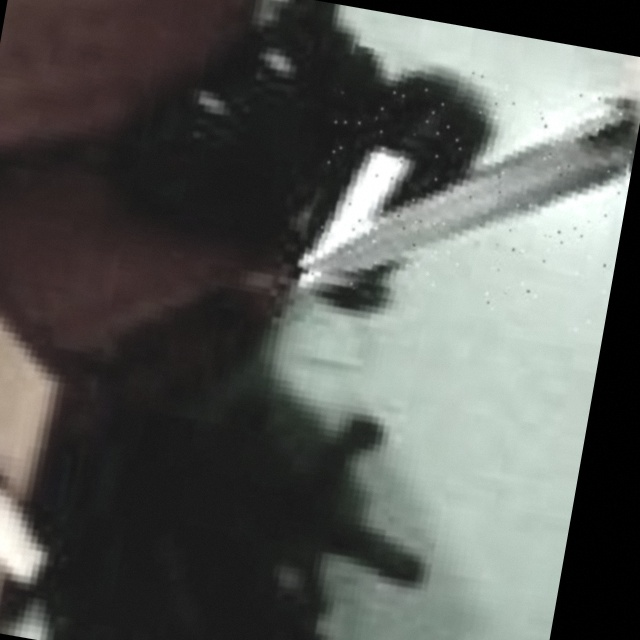Sharp-Object: (298, 48, 640, 339)
